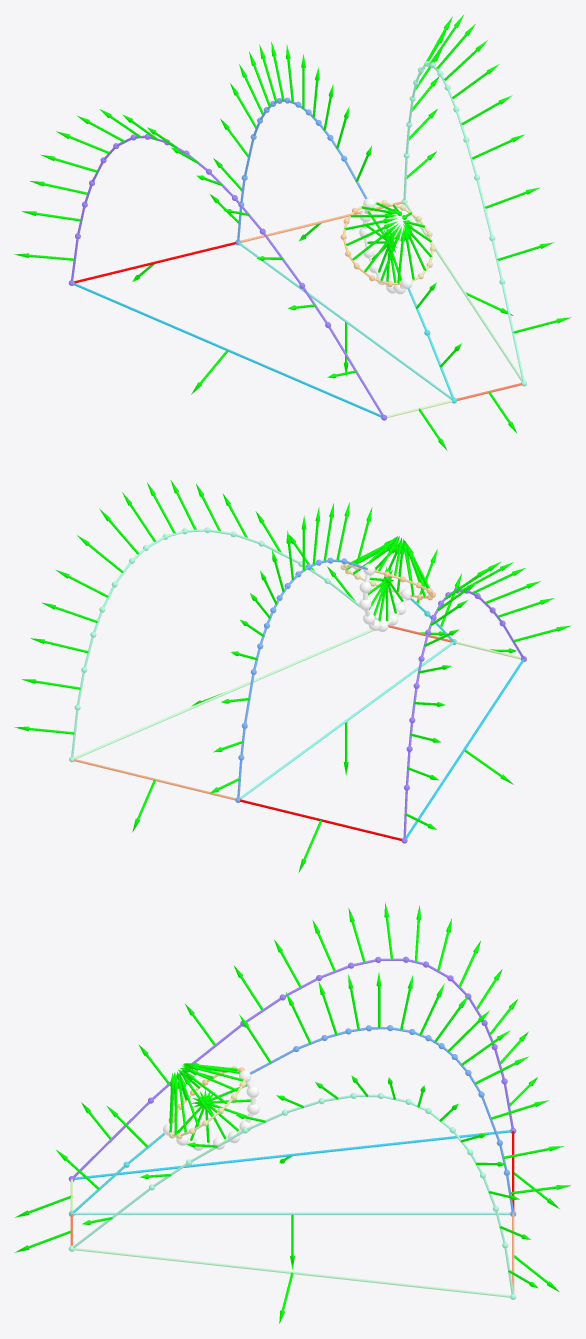
File: onshape_simple_mouse.gltf
The picture shows the model from 3 angles, top to bottom: view 1: azimuth 30°, elevation 25°; view 2: azimuth 150°, elevation 25°; view 3: azimuth 270°, elevation 25°; orthographic projection. The views are drawn at different scales.
Size of the model in its own units: 0.7991 by 0.5275 by 0.8921.
